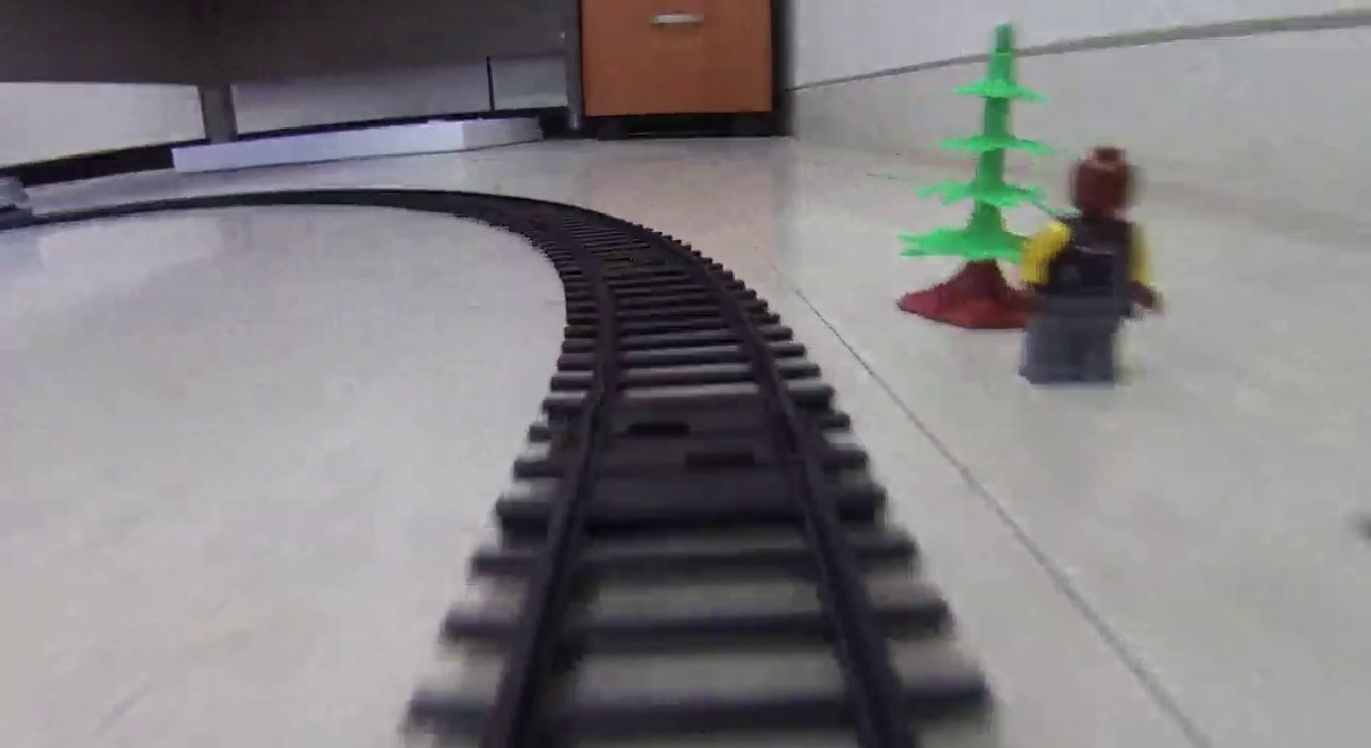people: (1020, 146, 1154, 383)
tree: (896, 20, 1059, 331)
